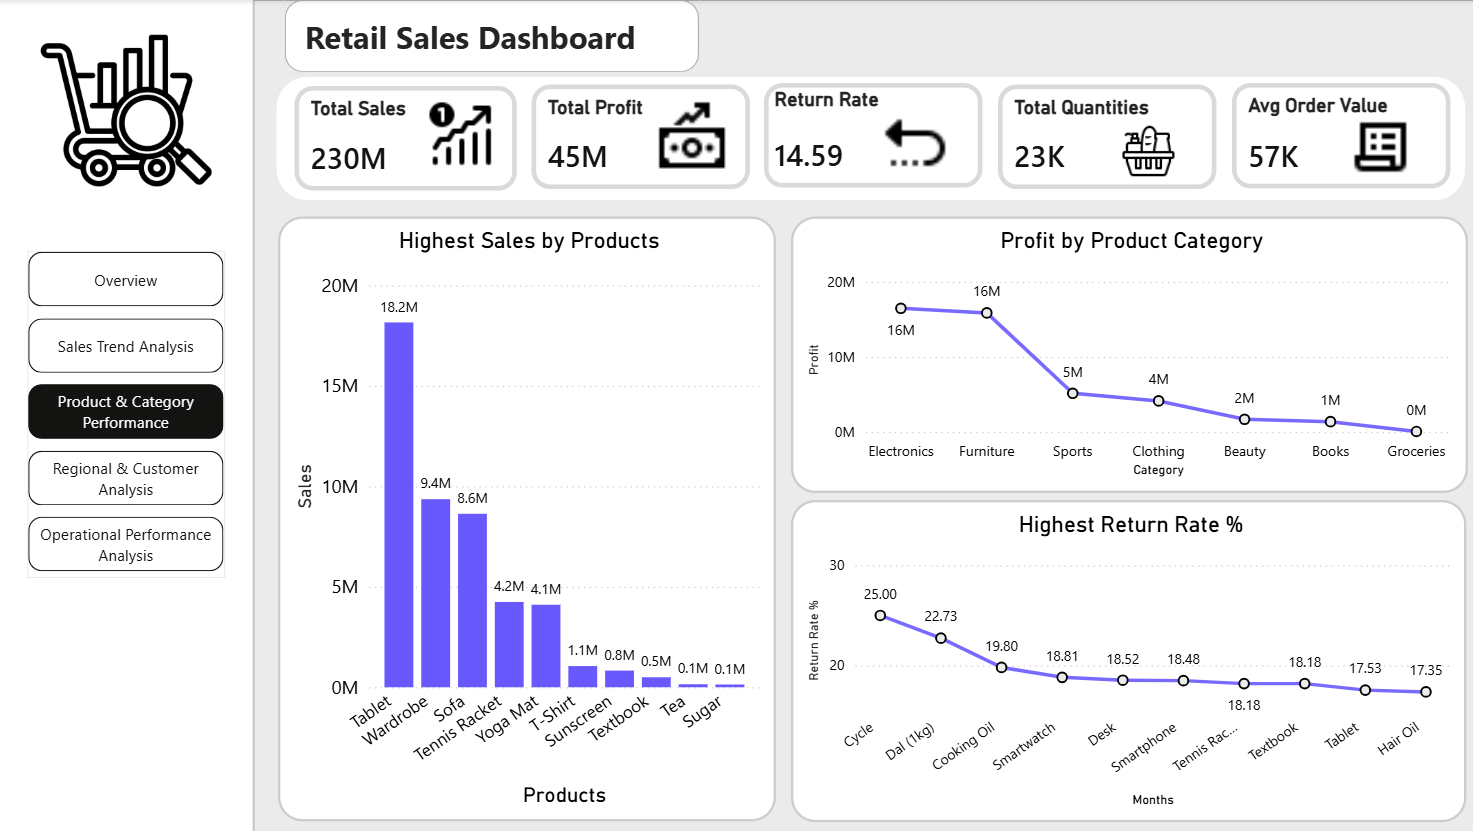

Layout of this report page (visuals, bound fields, positions):
{"tool":"powerbi","page":{"name":"Product & Category Performance","canvas":[1280,720],"ordinal":2},"visuals":[{"type":"shape","box":[218.6,0,1061.4,720],"z":0},{"type":"shape","box":[245.7,0,358.6,64.3],"z":2000},{"type":"textbox","box":[258.6,8.6,328.6,45.7],"z":3000},{"type":"shape","box":[239.1,66.6,1023.2,105.9],"z":4000},{"type":"cardVisual","title":"Total Quantities","fields":{"Data":["retail_Sales_data_clean.total_quantity"]},"box":[860.1,74.2,188,90],"z":5000},{"type":"cardVisual","title":"Total Sales","fields":{"Data":["retail_Sales_data_clean.total_sales"]},"box":[255,74.3,191,90],"z":6000},{"type":"cardVisual","title":"Total Profit","fields":{"Data":["retail_Sales_data_clean.total_profit"]},"box":[458,73,188,90],"z":7000},{"type":"cardVisual","title":"Return Rate","fields":{"Data":["retail_Sales_data_clean.return_rate"]},"box":[659,72.7,188,90],"z":8000},{"type":"cardVisual","title":"Avg Order Value","fields":{"Data":["retail_Sales_data_clean.avg_order_value"]},"box":[1061.5,72.7,188,90.9],"z":9000},{"type":"image","box":[363.4,83.3,72.7,69.7],"z":10000},{"type":"image","box":[555,83.3,83,69.7],"z":11000},{"type":"image","box":[754.1,96.9,69.7,56],"z":12000},{"type":"image","box":[947,107.5,86,49],"z":13000},{"type":"image","box":[1155.3,99,69,56],"z":14000},{"type":"lineChart","title":"Profit by Product Category","fields":{"Category":["retail_Sales_data_clean.product_category"],"Y":["retail_Sales_data_clean.total_profit"]},"box":[681.4,187.8,583,237.7],"z":15000},{"type":"clusteredColumnChart","title":"Highest Sales by Products","fields":{"Category":["retail_Sales_data_clean.product_name"],"Y":["retail_Sales_data_clean.total_sales"]},"box":[240.8,187.8,428.5,520.9],"z":16000},{"type":"lineChart","title":"Highest Return Rate %","fields":{"Category":["retail_Sales_data_clean.product_name"],"Y":["retail_Sales_data_clean.return_rate"]},"box":[681.4,431.5,581.5,277.1],"z":17000},{"type":"pageNavigator","box":[24.6,217.3,170.1,281.6],"z":17001},{"type":"image","box":[24.6,18.9,170.1,153.1],"z":17002}]}

Visuals, with their boxes in screenshot pixels (x1, y1, x2, y2), scaled from the page's 1280x720 canvas onto the 1473x831 screenshot:
shape: bbox=[252, 0, 1472, 830]
shape: bbox=[283, 0, 695, 74]
textbox: bbox=[298, 10, 676, 63]
shape: bbox=[275, 77, 1453, 199]
"Total Quantities" cardVisual: bbox=[990, 86, 1206, 190]
"Total Sales" cardVisual: bbox=[293, 86, 513, 190]
"Total Profit" cardVisual: bbox=[527, 84, 743, 188]
"Return Rate" cardVisual: bbox=[758, 84, 975, 188]
"Avg Order Value" cardVisual: bbox=[1222, 84, 1438, 189]
image: bbox=[418, 96, 502, 177]
image: bbox=[639, 96, 734, 177]
image: bbox=[868, 112, 948, 176]
image: bbox=[1090, 124, 1189, 181]
image: bbox=[1329, 114, 1409, 179]
"Profit by Product Category" lineChart: bbox=[784, 217, 1455, 491]
"Highest Sales by Products" clusteredColumnChart: bbox=[277, 217, 770, 818]
"Highest Return Rate %" lineChart: bbox=[784, 498, 1453, 818]
pageNavigator: bbox=[28, 251, 224, 576]
image: bbox=[28, 22, 224, 199]
